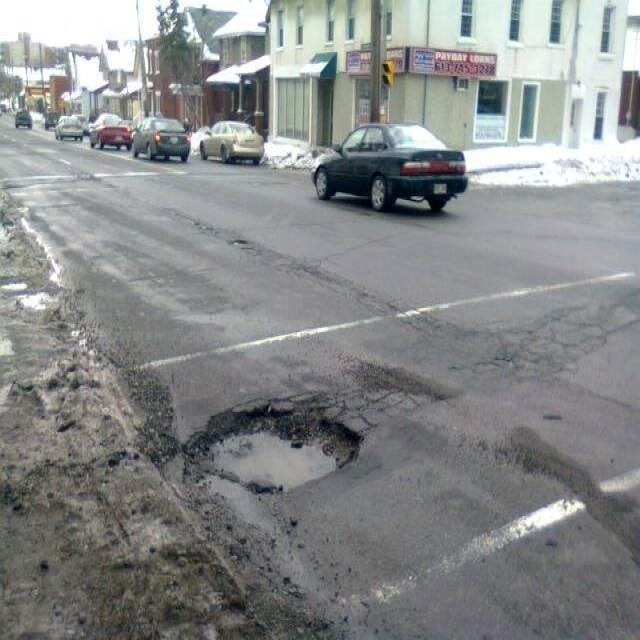pothole: (172, 376, 398, 502)
